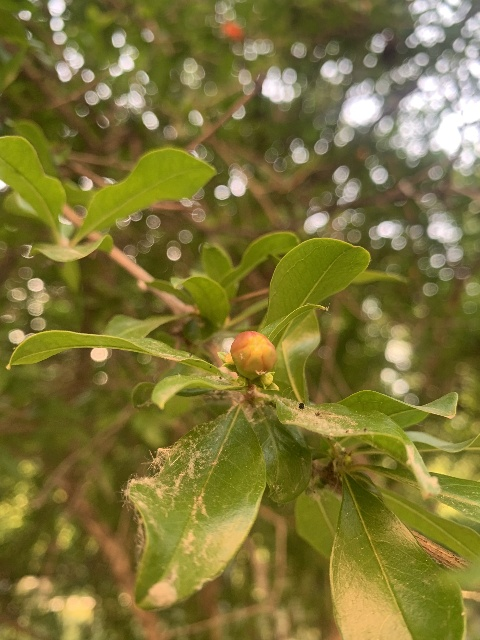bud: (230, 330, 277, 380)
